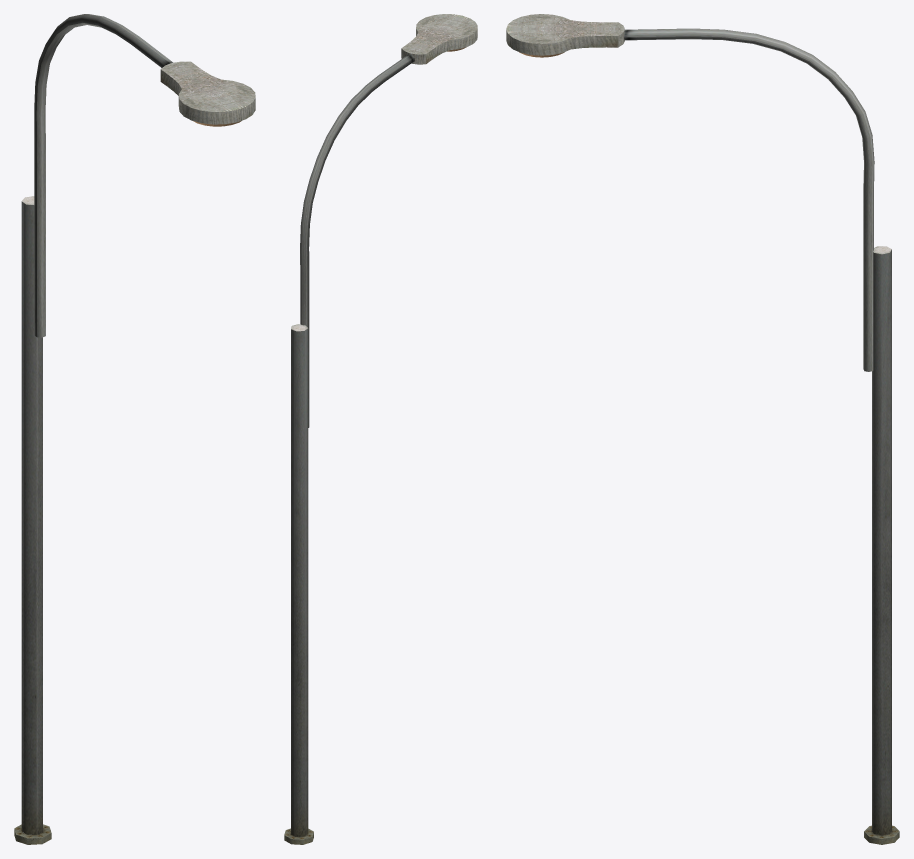
Rendered from street light.FBX.
3 views of the same model, side by side, from view 1: azimuth 30°, elevation 25°; view 2: azimuth 150°, elevation 25°; view 3: azimuth 270°, elevation 25° (orthographic). The views are drawn at different scales.
Visible parts, largest first — view 1: Cylinder003; view 2: Cylinder003; view 3: Cylinder003.
Boxes of the visible parts, x1,y1,x2,y2 form: Cylinder003: [14, 14, 255, 844]; Cylinder003: [284, 14, 477, 844]; Cylinder003: [506, 14, 899, 844].
Size of the model in its own units: 2.09 by 26.12 by 11.52.
